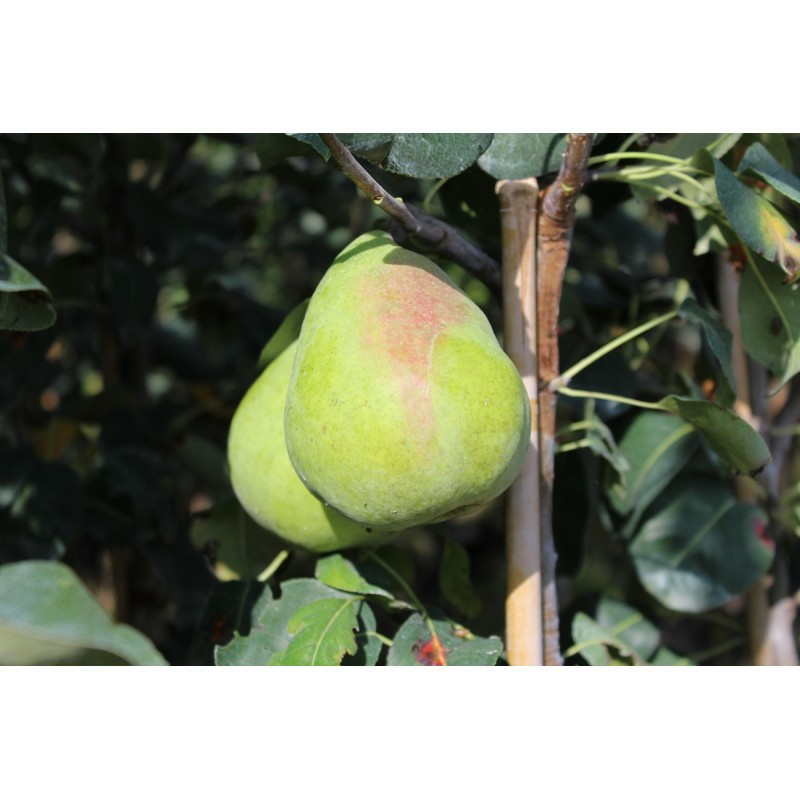pear: (284, 226, 528, 526), (228, 296, 406, 551)
